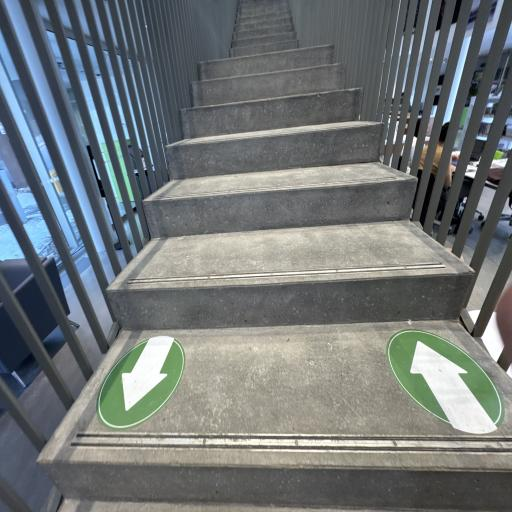Stairs: (38, 0, 512, 512), (39, 320, 512, 512), (107, 220, 474, 330), (144, 162, 416, 238), (166, 122, 383, 180), (191, 33, 345, 107), (180, 89, 362, 139), (197, 45, 334, 81)
